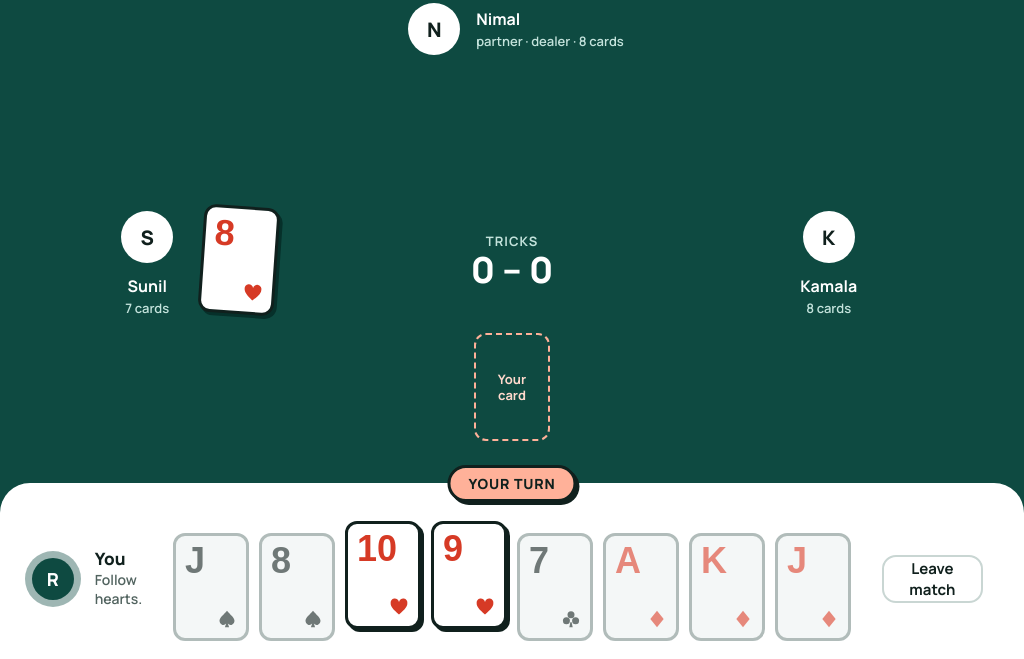
Test: a refused move › is forgotten once the game moves on
Step 1. Click the button named ", playable" → (383, 575), box [345,521,421,629]
(page scrolled)
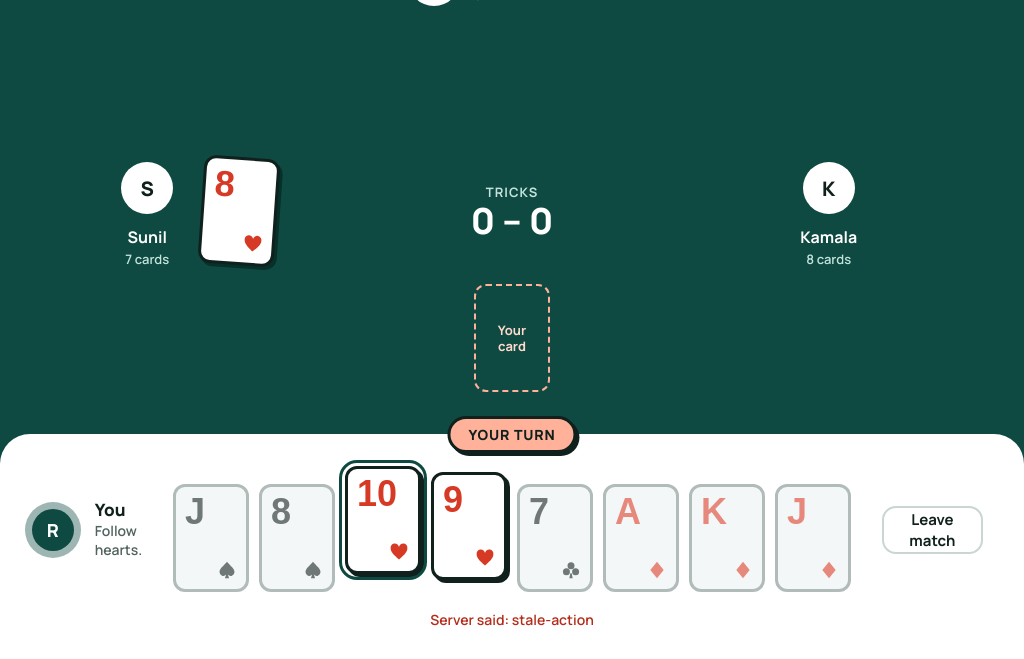
expect the message "Server said: stale-action" is shown: met, box [430,610,594,629]
